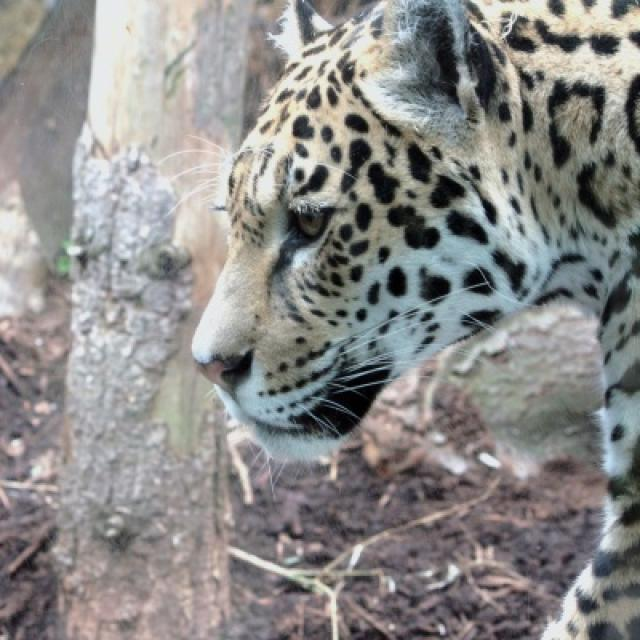Jaguar: (190, 0, 638, 638)
